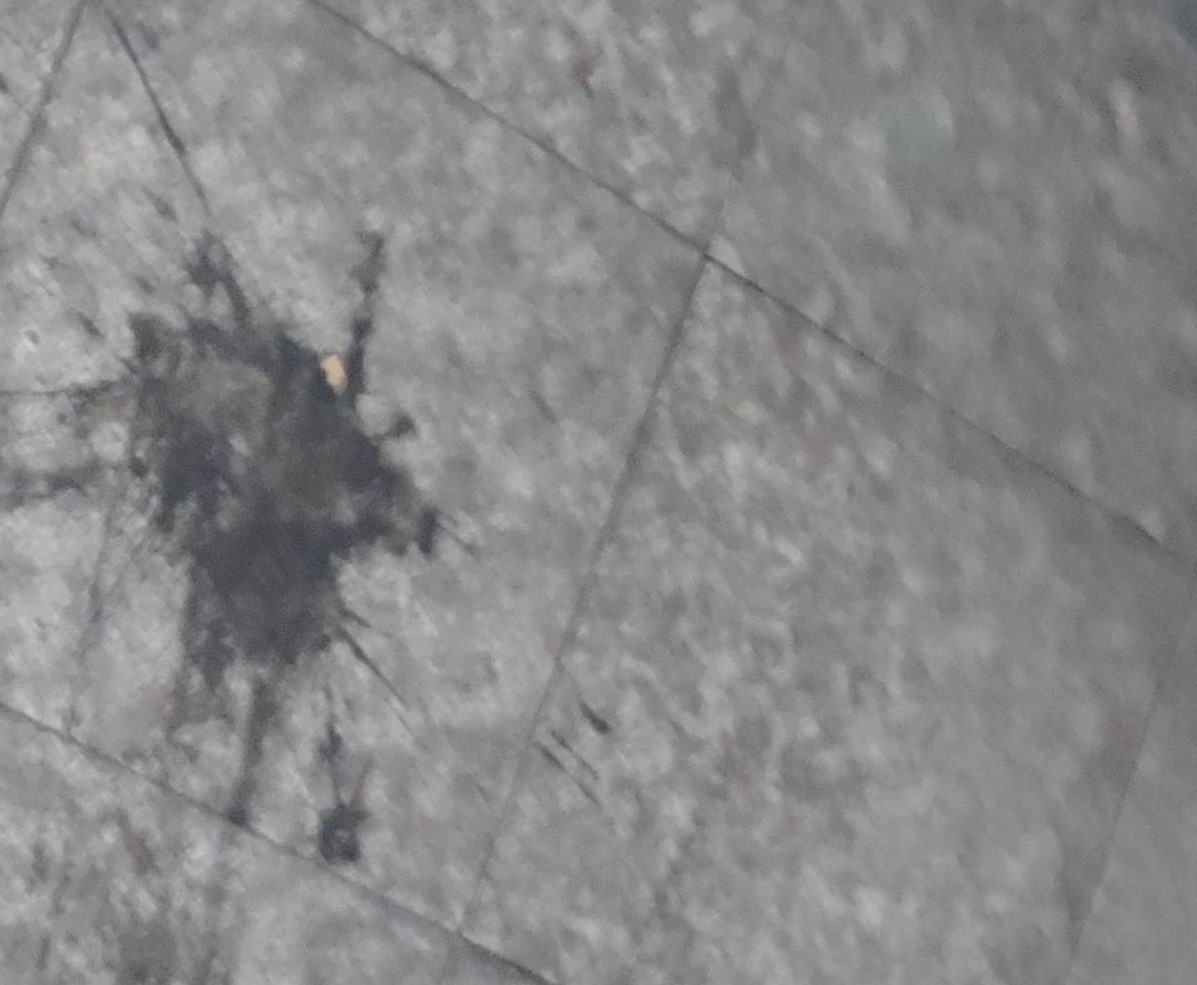grey spot: (61, 226, 441, 865)
